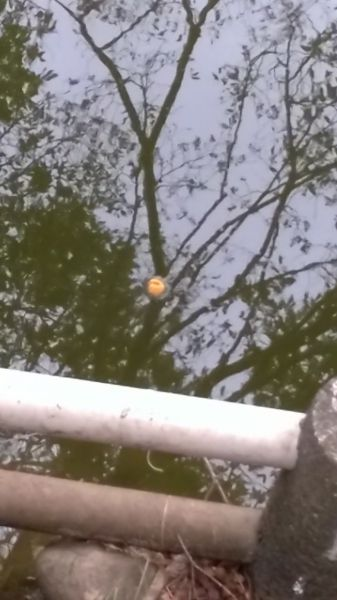eggs: (144, 274, 171, 299)
